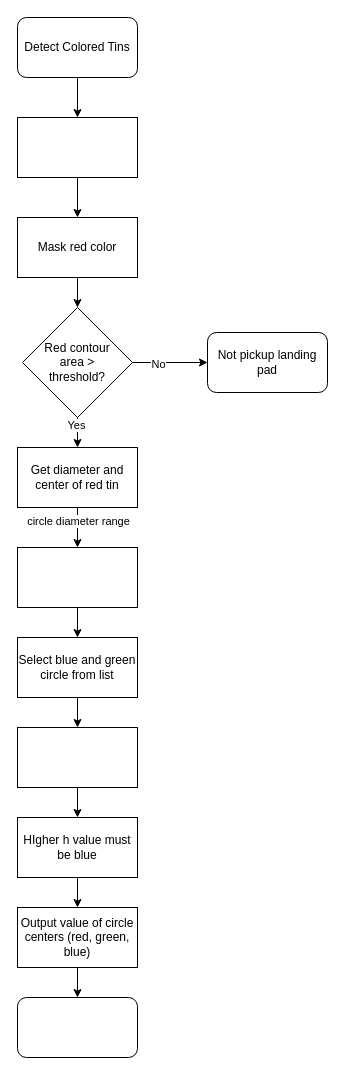
Image size: 345x1075. Some labels were removed from this diagram. Here are the shapes that lost their labels. From the top down, the centre of each, then its label:
the point at 77,147: Read, resize and blur
the point at 77,577: Hough circle transform to find tins
the point at 77,757: Create mask for blue and green and compare h value
the point at 77,1027: Return coordinates of colors
